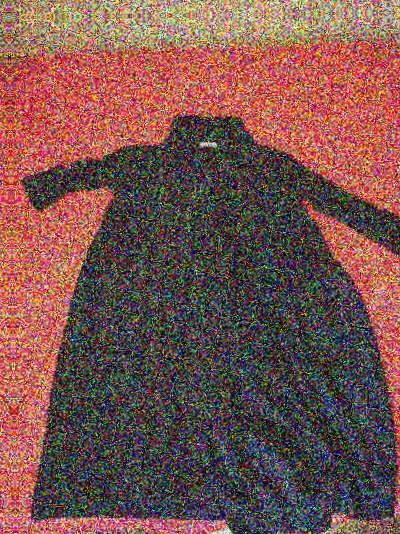Dress: (12, 103, 400, 534), (0, 109, 12, 534)
